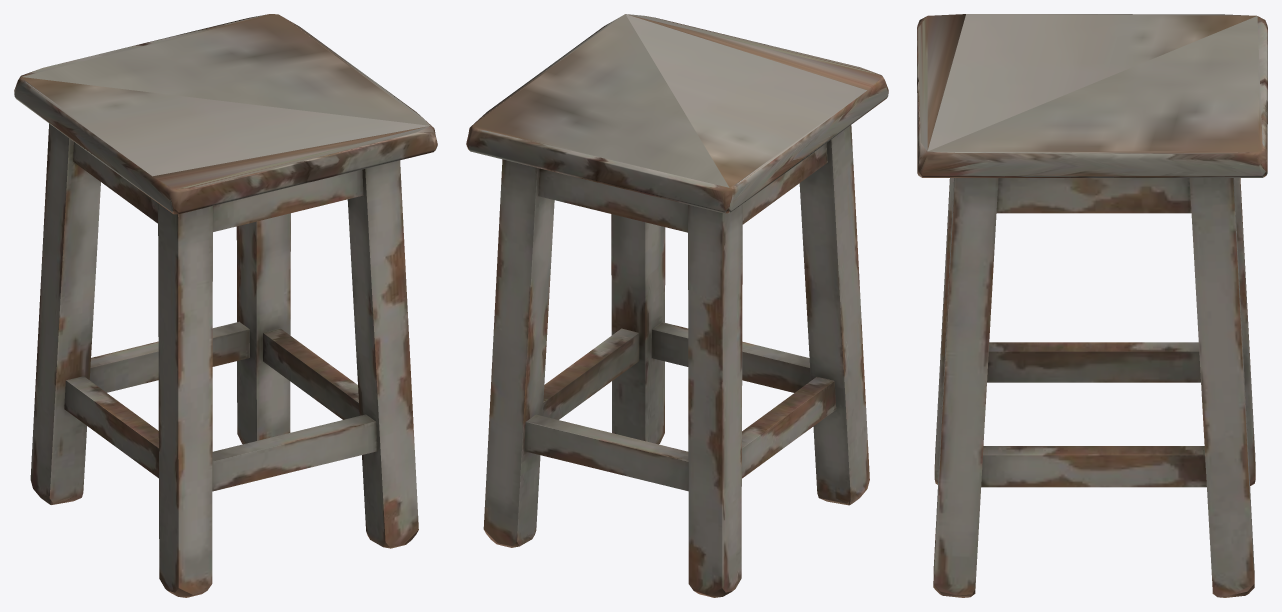
File: painted-wooden-stool.glb
The picture shows the model from 3 angles, left to right: view 1: azimuth 30°, elevation 25°; view 2: azimuth 150°, elevation 25°; view 3: azimuth 270°, elevation 25°; orthographic projection. The views are drawn at different scales.
Parts seen in each view (by area): view 1: painted_wooden_stool; view 2: painted_wooden_stool; view 3: painted_wooden_stool.
Part boxes in pixels (x1,y1,x2,y2): painted_wooden_stool: (14, 14, 437, 597); painted_wooden_stool: (466, 14, 888, 597); painted_wooden_stool: (917, 14, 1267, 597).
Size of the model in its own units: 0.3843 by 0.5789 by 0.4057.
1 material, 1 textured.
